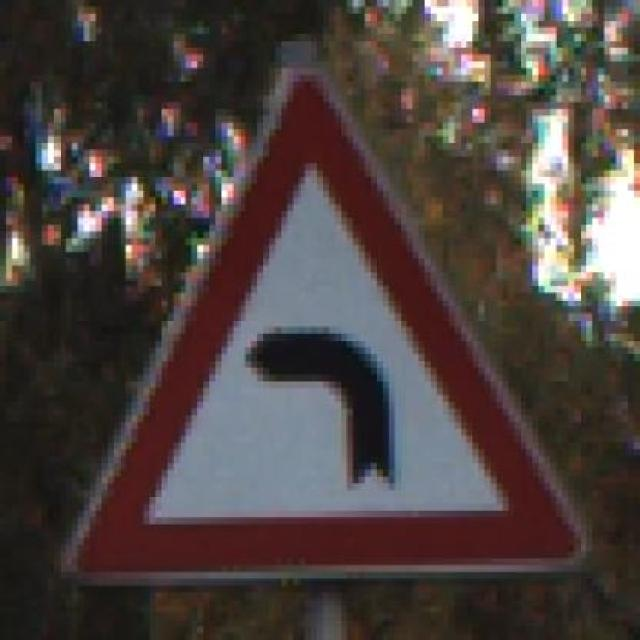Dangerous Left Curve Ahead: (66, 61, 599, 599)
